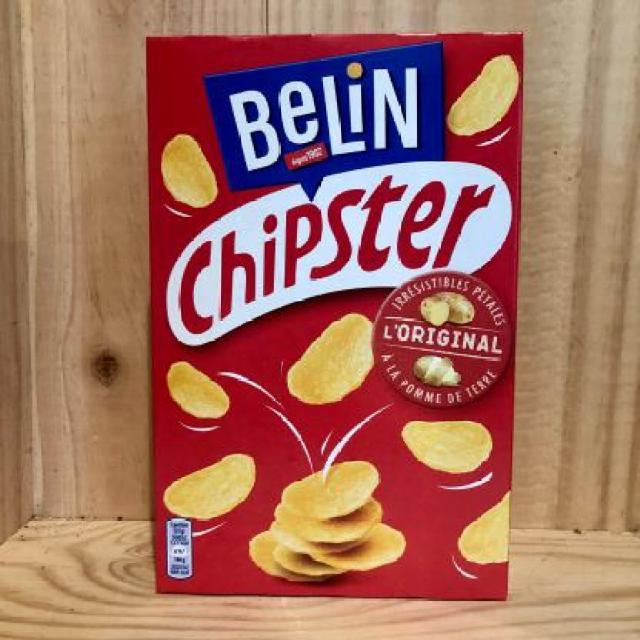Chips: (142, 32, 516, 606)
